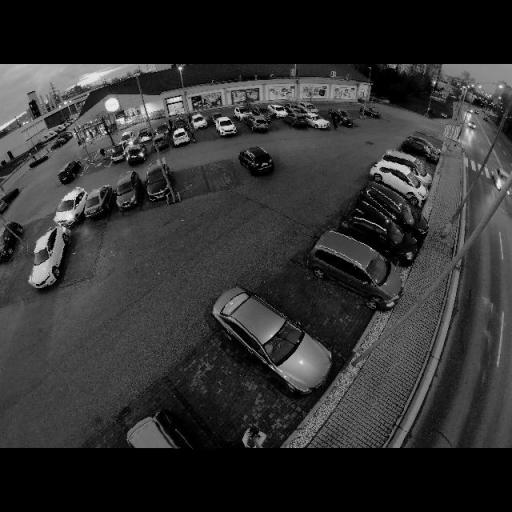busy: (208, 284, 341, 396), (300, 224, 400, 308), (118, 408, 220, 450), (342, 208, 416, 260), (27, 226, 75, 288), (356, 188, 422, 222), (368, 164, 430, 198), (110, 170, 146, 210), (238, 145, 280, 177), (55, 186, 86, 227), (141, 165, 176, 201), (377, 150, 426, 173), (0, 222, 24, 268), (82, 188, 112, 218), (55, 160, 87, 184), (400, 141, 438, 161), (213, 115, 240, 138), (302, 112, 333, 132), (241, 114, 271, 134), (124, 145, 151, 167), (326, 109, 357, 128), (188, 113, 212, 132), (172, 128, 194, 148), (285, 113, 310, 130), (266, 104, 288, 120), (285, 100, 309, 114), (153, 135, 172, 151), (360, 106, 381, 120), (110, 148, 128, 164)
free: (189, 367, 269, 420), (282, 282, 344, 322), (76, 232, 98, 282), (10, 256, 32, 302), (28, 214, 50, 244), (210, 168, 238, 186), (178, 174, 204, 190), (271, 118, 289, 134), (196, 130, 216, 142)
